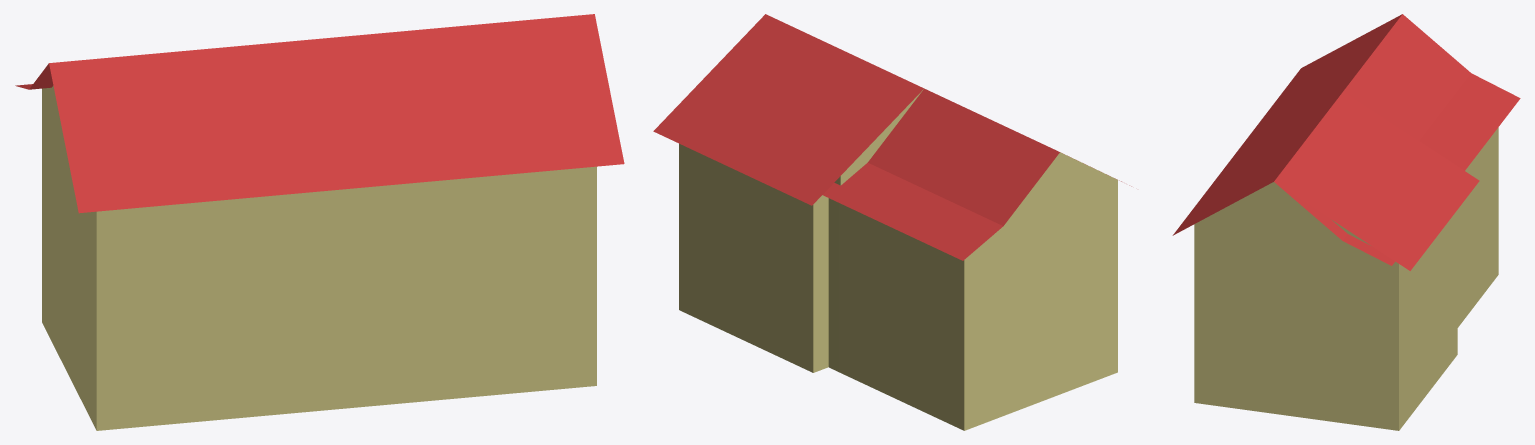
The picture shows the model from 3 angles, left to right: view 1: azimuth 30°, elevation 25°; view 2: azimuth 150°, elevation 25°; view 3: azimuth 270°, elevation 25°; orthographic projection. The views are drawn at different scales.
Bounding box in the file's own units: 27.21 × 19.99 × 15.18.
